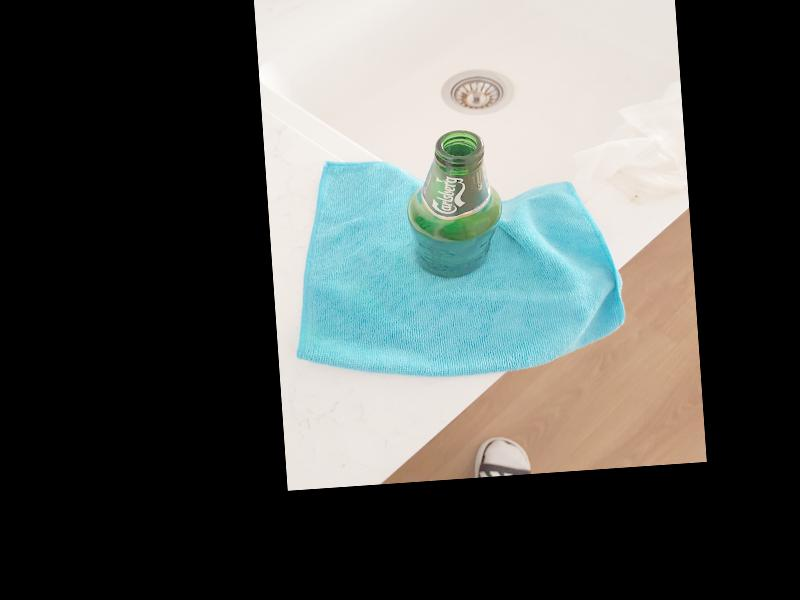Beer: (406, 129, 507, 281)
